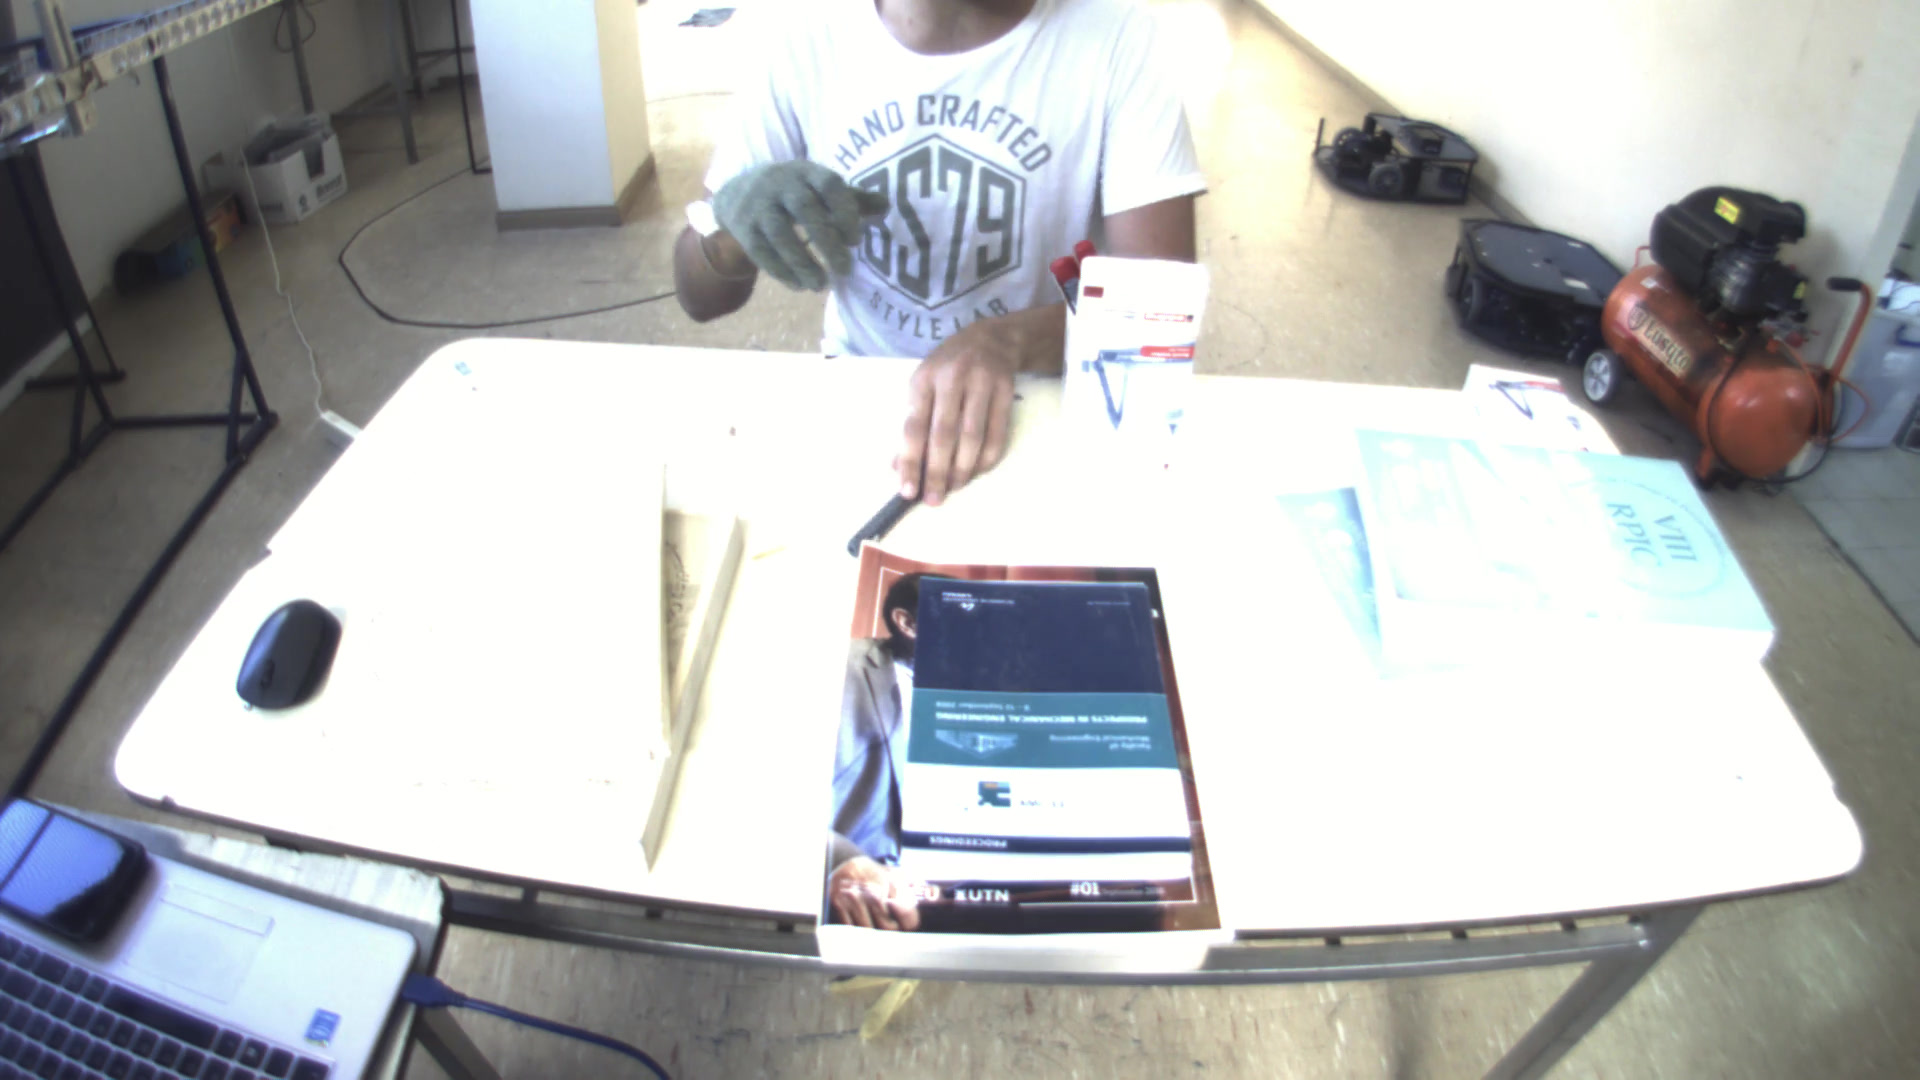hand: (882, 302, 1044, 512), (705, 149, 884, 287)
